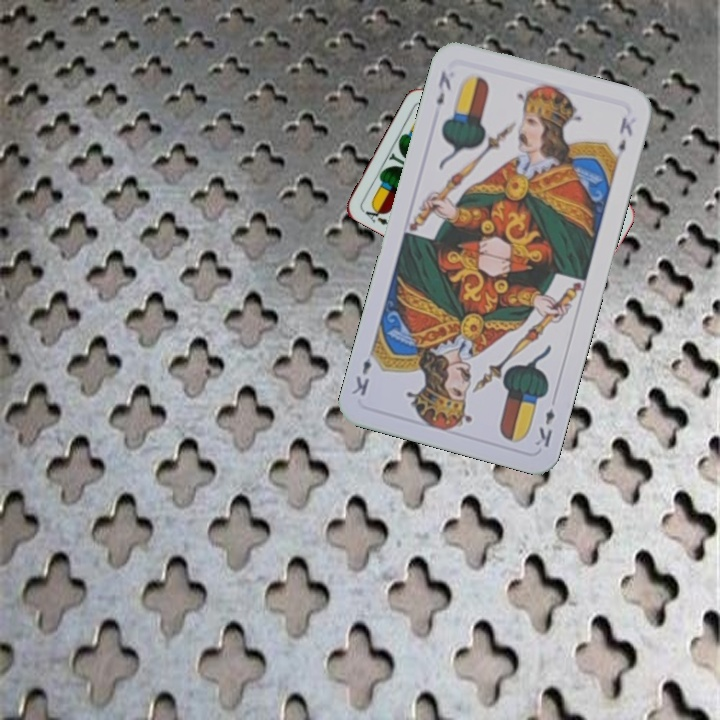EA: (359, 202, 391, 228)
EK: (531, 404, 558, 450), (432, 67, 454, 108)
